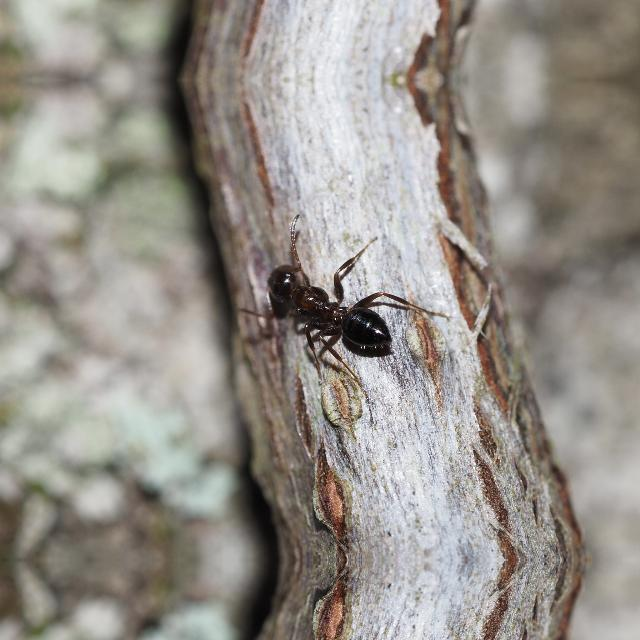Colobopsis: (254, 250, 404, 362)
